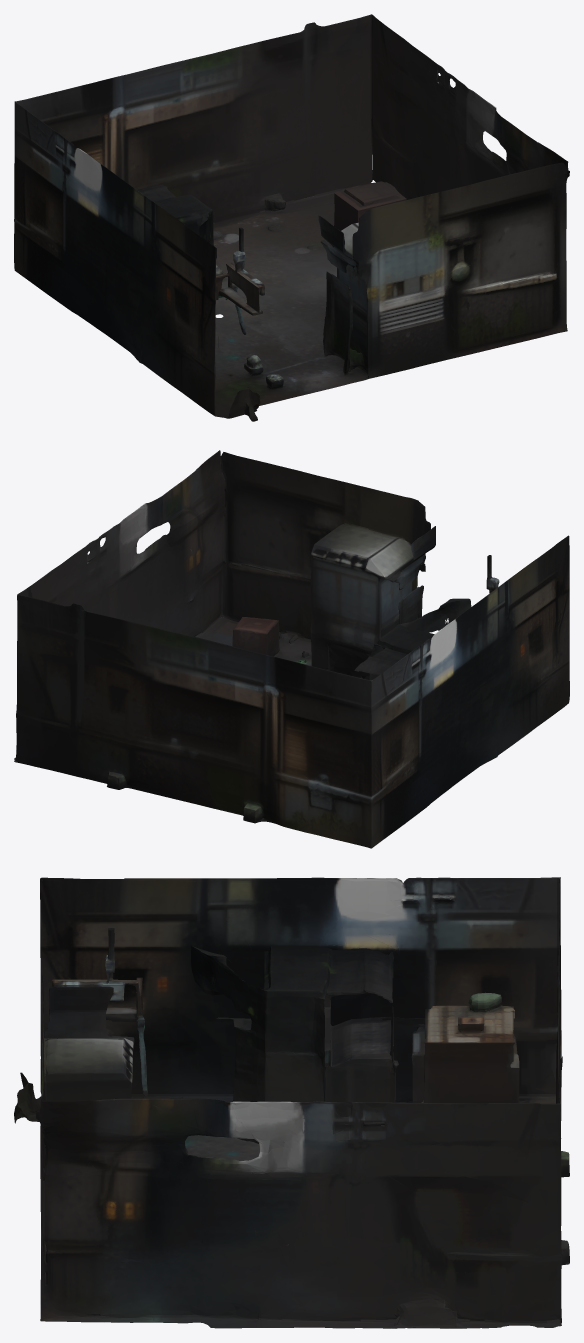
The model's file is Surroundings (8)_compressed.glb.
3 renders of one model, top to bottom at view 1: azimuth 30°, elevation 25°; view 2: azimuth 150°, elevation 25°; view 3: azimuth 270°, elevation 25°, orthographic. The views are drawn at different scales.
Parts seen in each view (by area): view 1: world; view 2: world; view 3: world.
Boxes of the visible parts, x1=… form: world: x1=14, y1=14, x2=569, y2=421; world: x1=14, y1=450, x2=569, y2=848; world: x1=14, y1=877, x2=569, y2=1328.
Bounding box in the file's own units: 0.9875 × 0.4631 × 1.
Materials: 1 (1 with a texture image).
